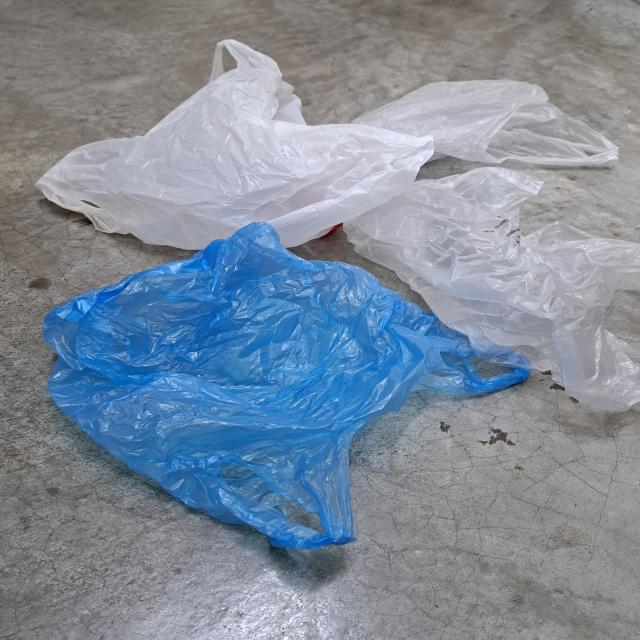plastic bag: (39, 222, 530, 550), (32, 39, 432, 248), (342, 166, 640, 414), (345, 77, 622, 166)
